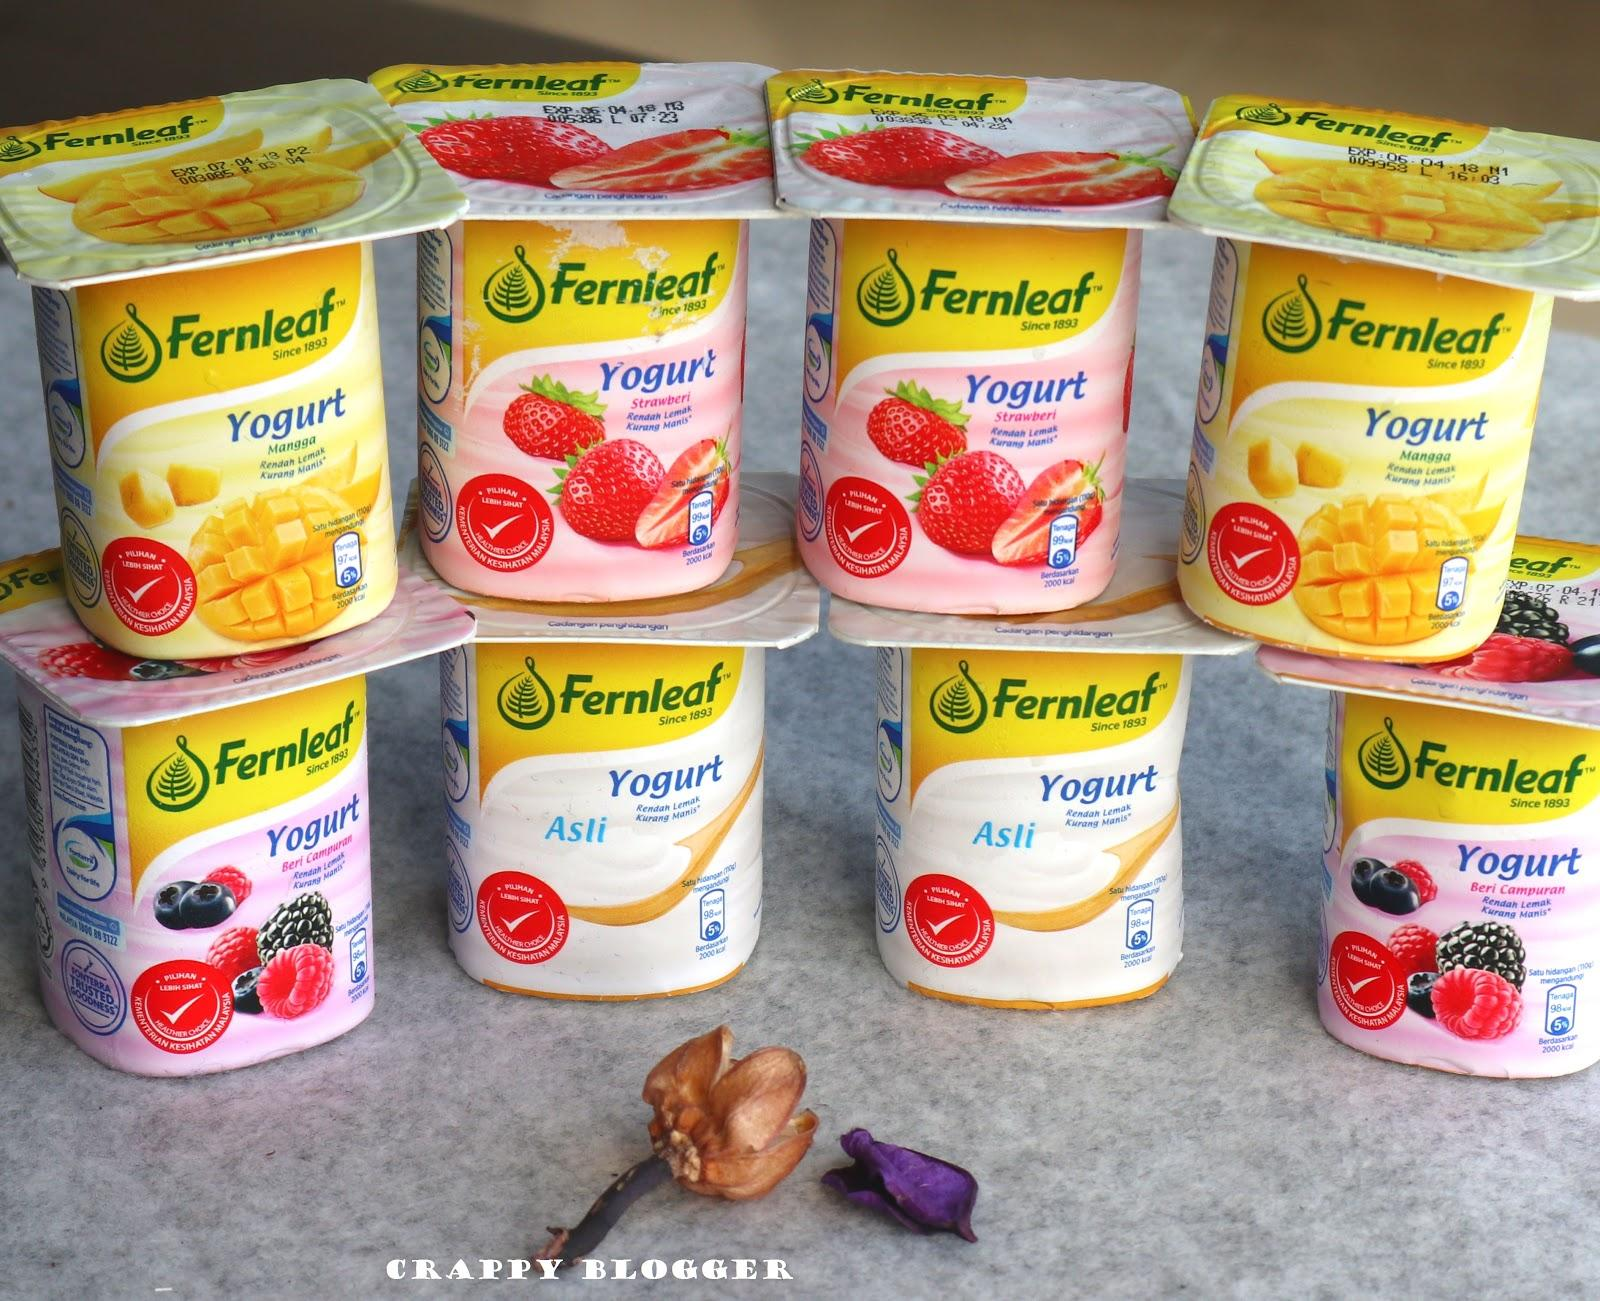plastic: (775, 42, 1248, 1008), (0, 102, 459, 1077), (374, 48, 809, 1010), (1192, 62, 1600, 1082)
